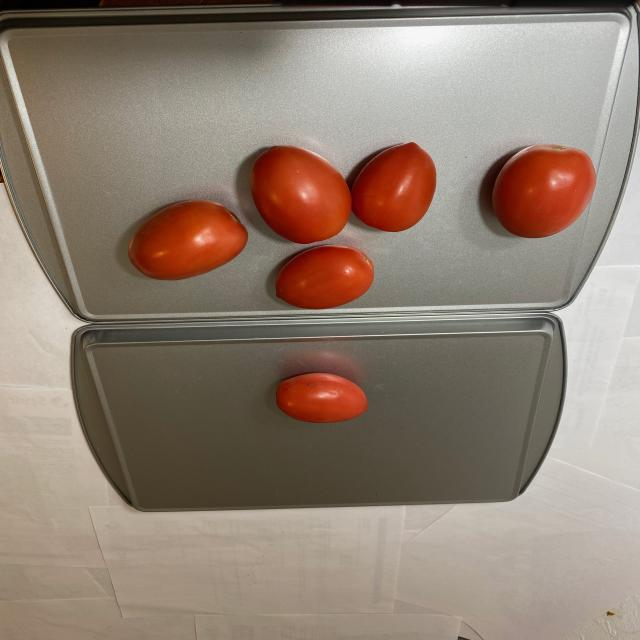tomato: (116, 146, 602, 309), (275, 371, 374, 425)
